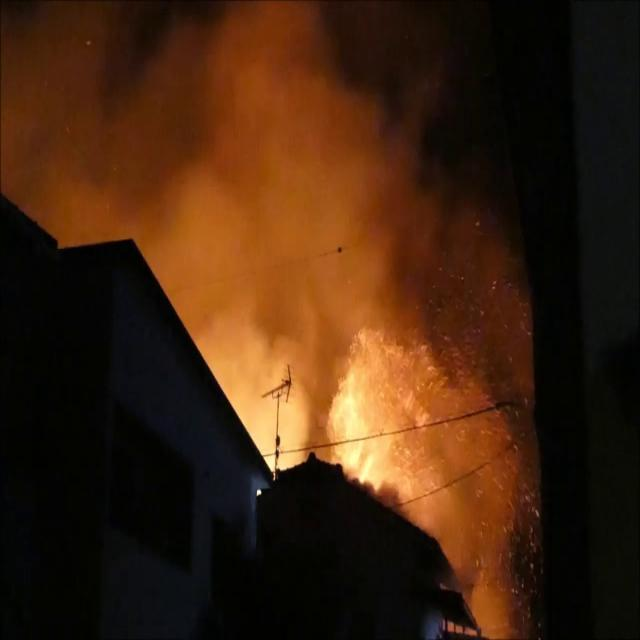Smoke: (5, 0, 499, 458)
